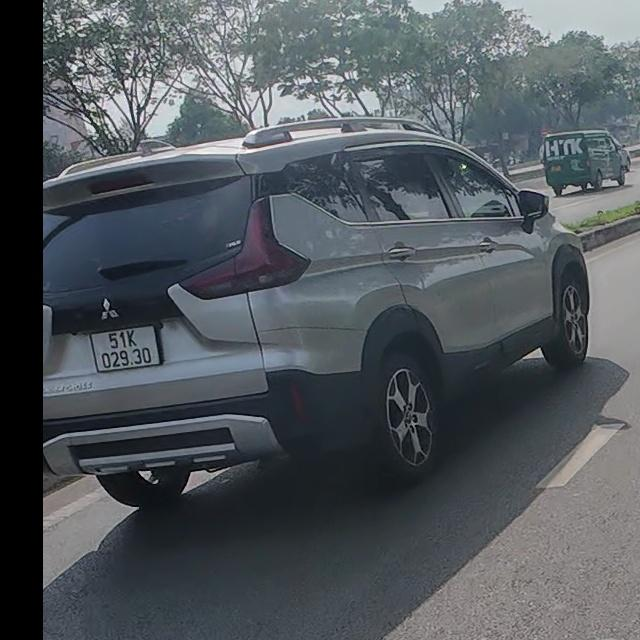license-plate: (88, 325, 160, 372)
